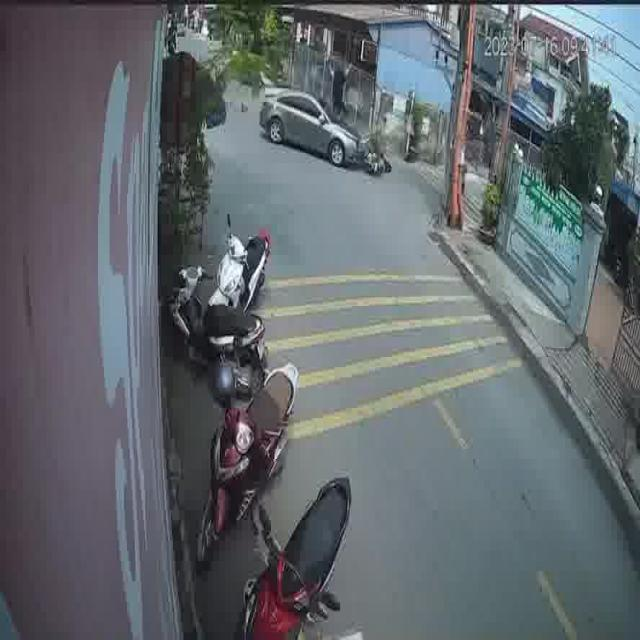multiple_accident: (257, 54, 396, 184)
